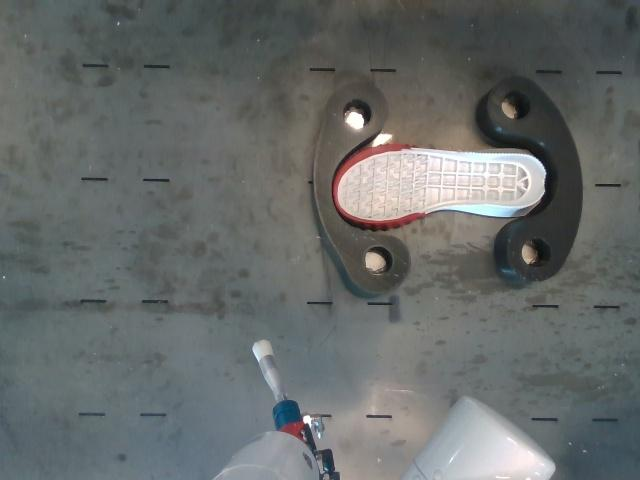shoes: (334, 146, 545, 223)
